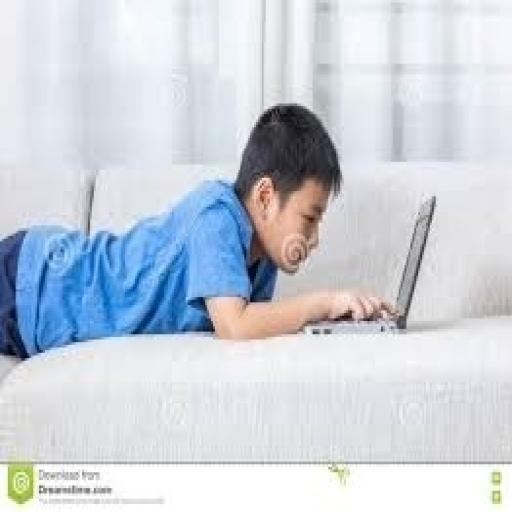using_laptop: (301, 191, 438, 337)
